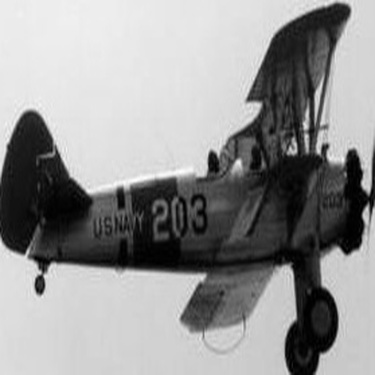airplane: (1, 5, 371, 372)
